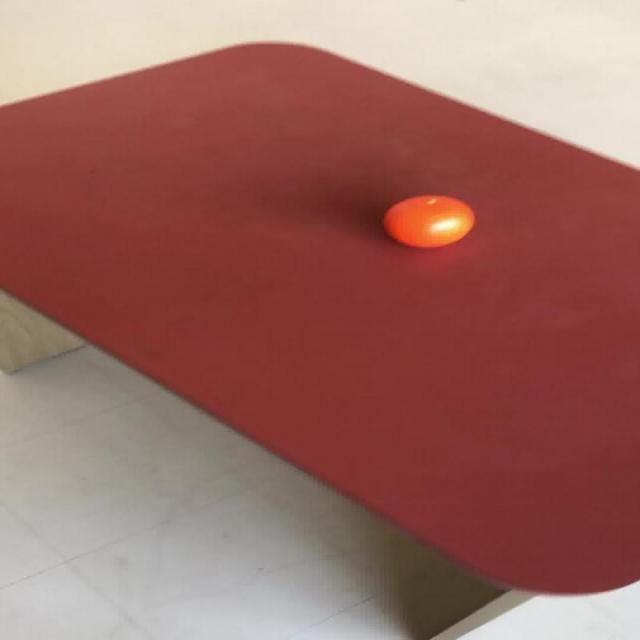Orange: (382, 193, 474, 248)
